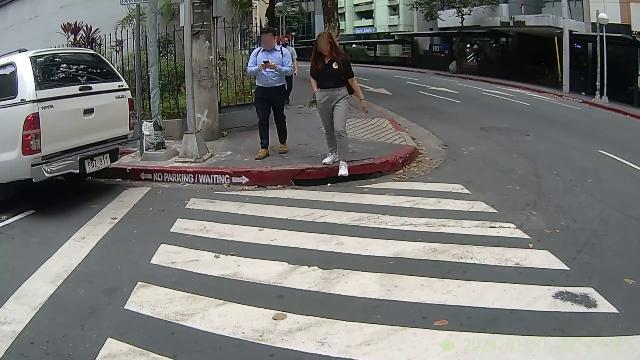lamp_post: (596, 12, 612, 99), (274, 0, 288, 30)
utility_post: (174, 0, 212, 166), (142, 6, 176, 162)
